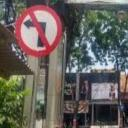NoVirarEsquerda: (17, 7, 62, 57)
